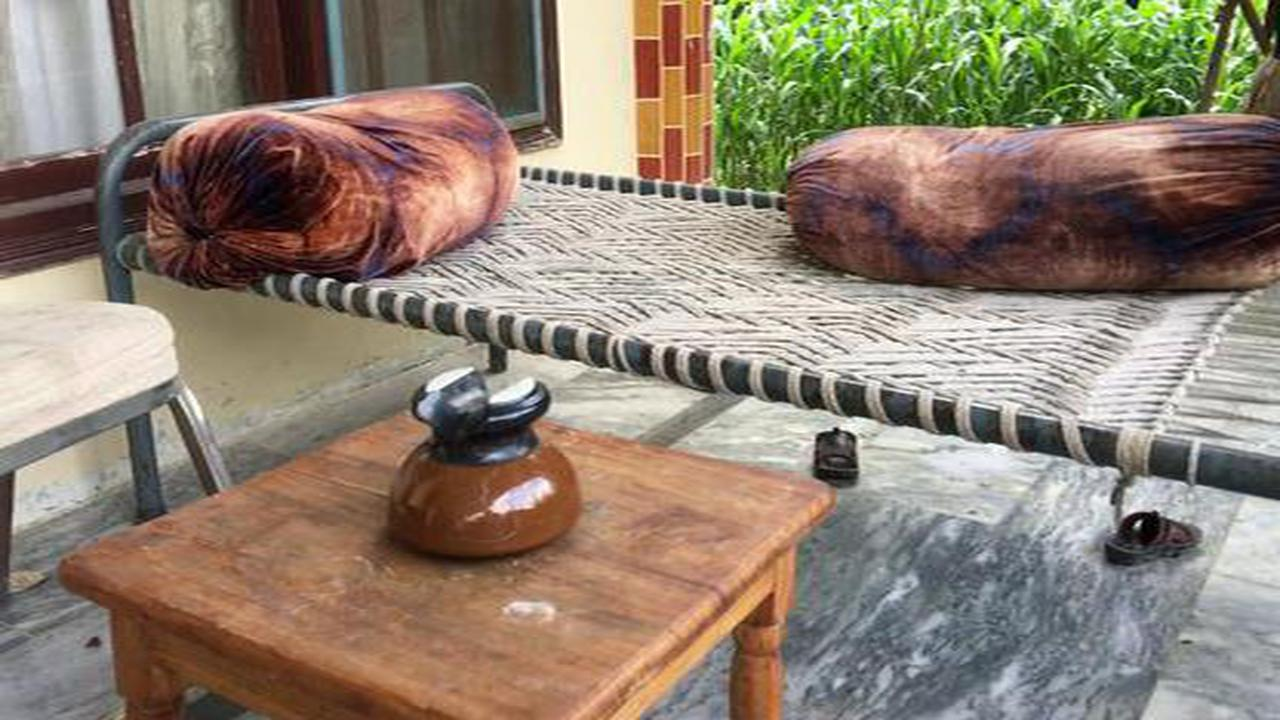insulator_pin: (364, 343, 601, 573)
